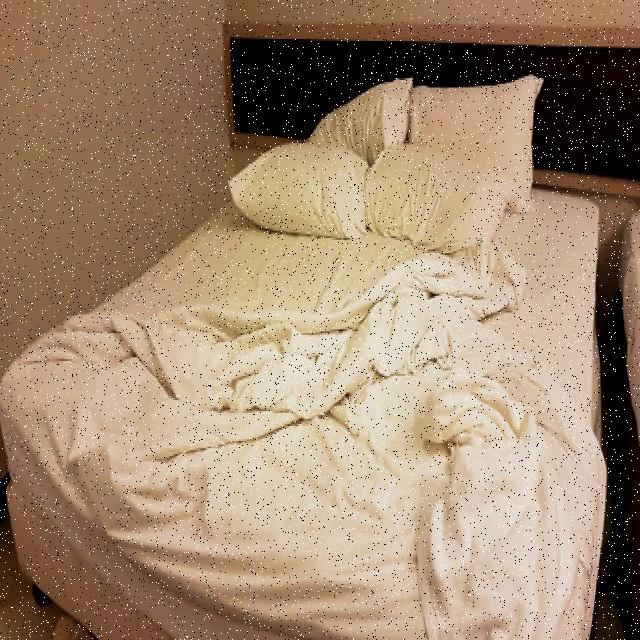bed: (0, 75, 604, 634)
